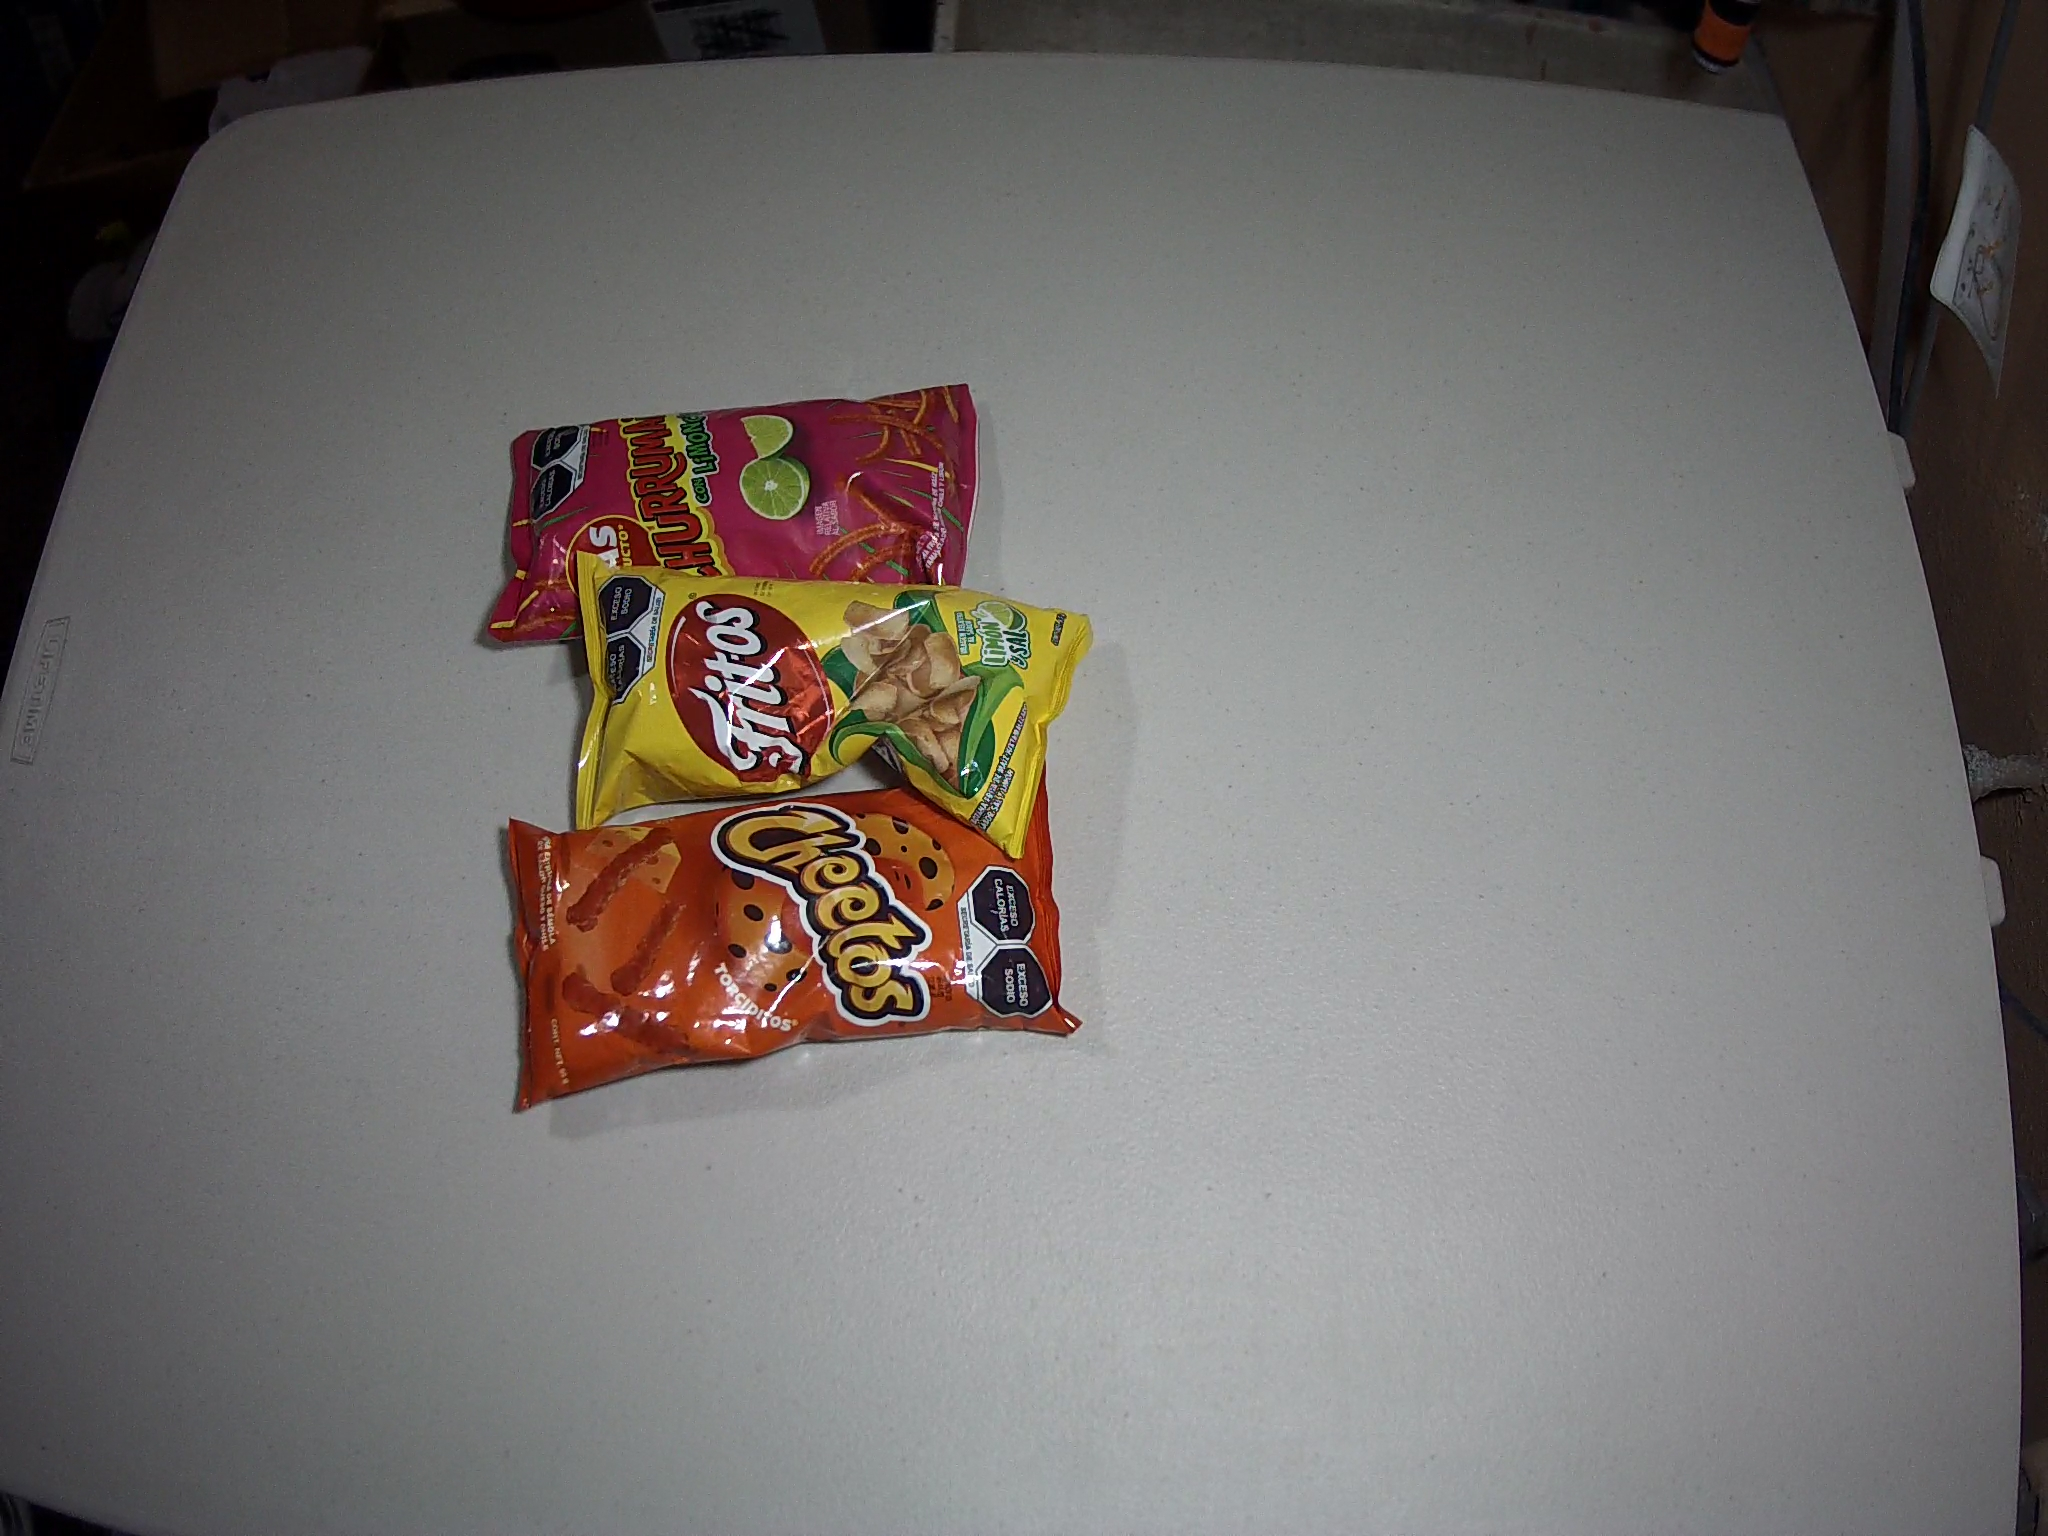CheetosTorciditos_55_F: (508, 749, 1085, 1112)
Churrumais_70_F: (484, 382, 976, 645)
FritosSalLimon_65_F: (572, 547, 1097, 862)
